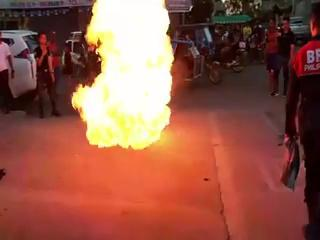Fire: (70, 0, 175, 153)
